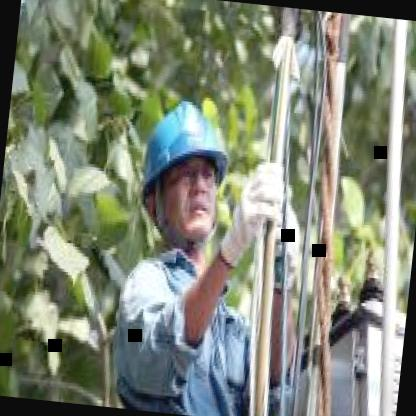helmet: (121, 84, 247, 268)
